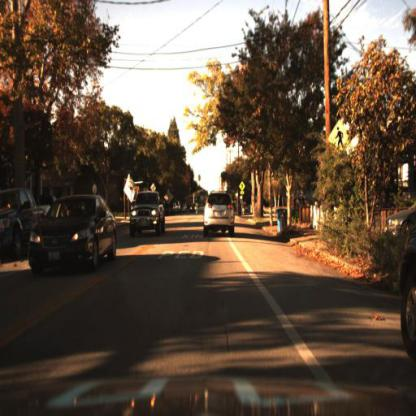car: (29, 195, 118, 281), (2, 187, 55, 264), (126, 190, 167, 239), (203, 192, 237, 240)
